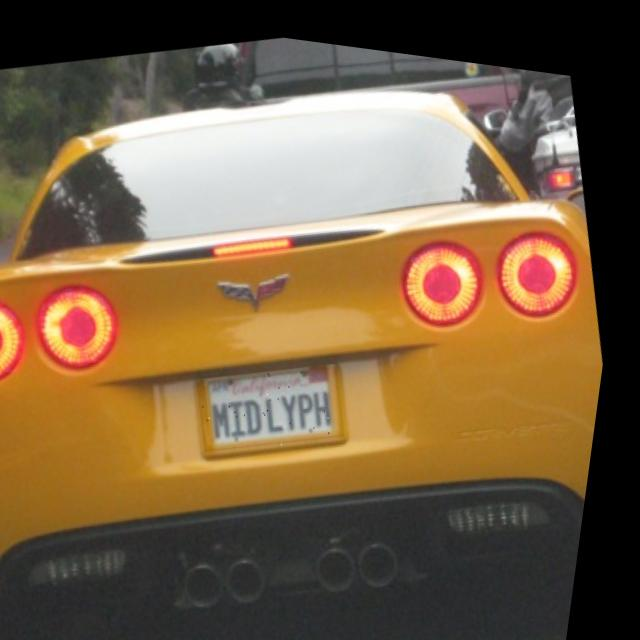license_plate: (198, 338, 363, 461)
